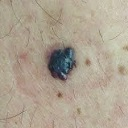Melanoma: (44, 45, 80, 83)
